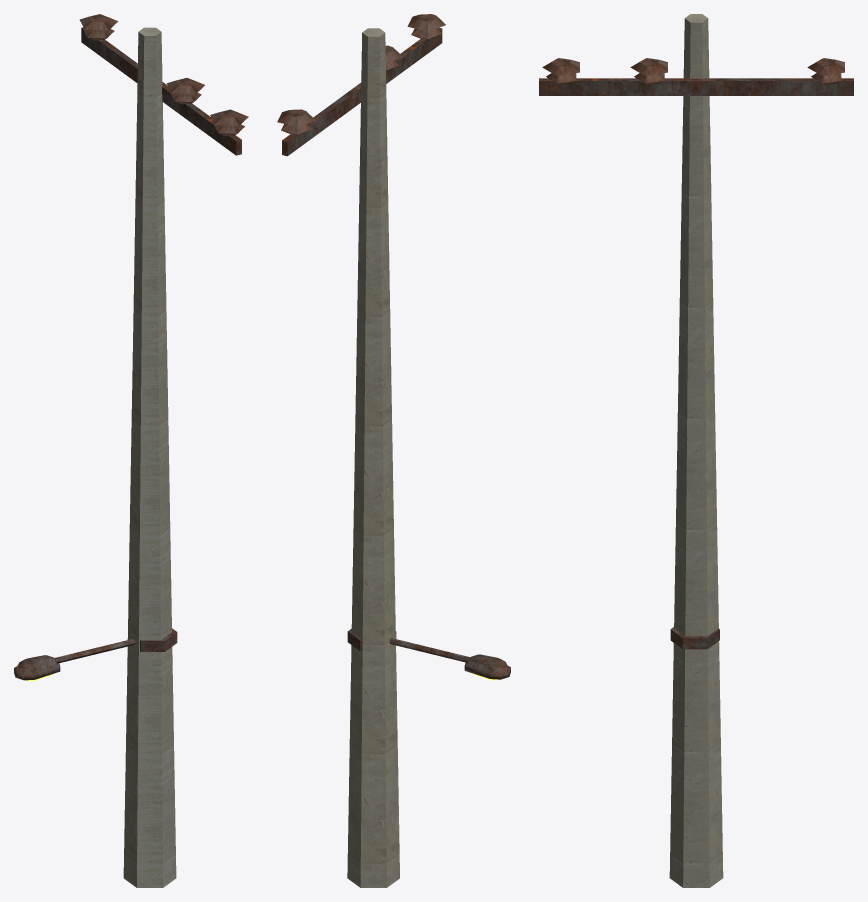
The model's file is LightPole.glb.
3 renders of one model, left to right at view 1: azimuth 30°, elevation 25°; view 2: azimuth 150°, elevation 25°; view 3: azimuth 270°, elevation 25°, orthographic.
Visible parts, largest first — view 1: Cylinder.045, Cylinder.033; view 2: Cylinder.045, Cylinder.033; view 3: Cylinder.045, Cylinder.033.
Part boxes in pixels (left/top/right/bottom): Cylinder.045: left=79, top=14, right=248, bottom=887; Cylinder.033: left=14, top=628, right=177, bottom=680; Cylinder.045: left=277, top=14, right=445, bottom=887; Cylinder.033: left=347, top=629, right=510, bottom=680; Cylinder.045: left=539, top=14, right=853, bottom=887; Cylinder.033: left=670, top=627, right=719, bottom=649.
Size of the model in its own units: 4.13 by 20.19 by 6.7.
Materials: 3 (2 with a texture image).
